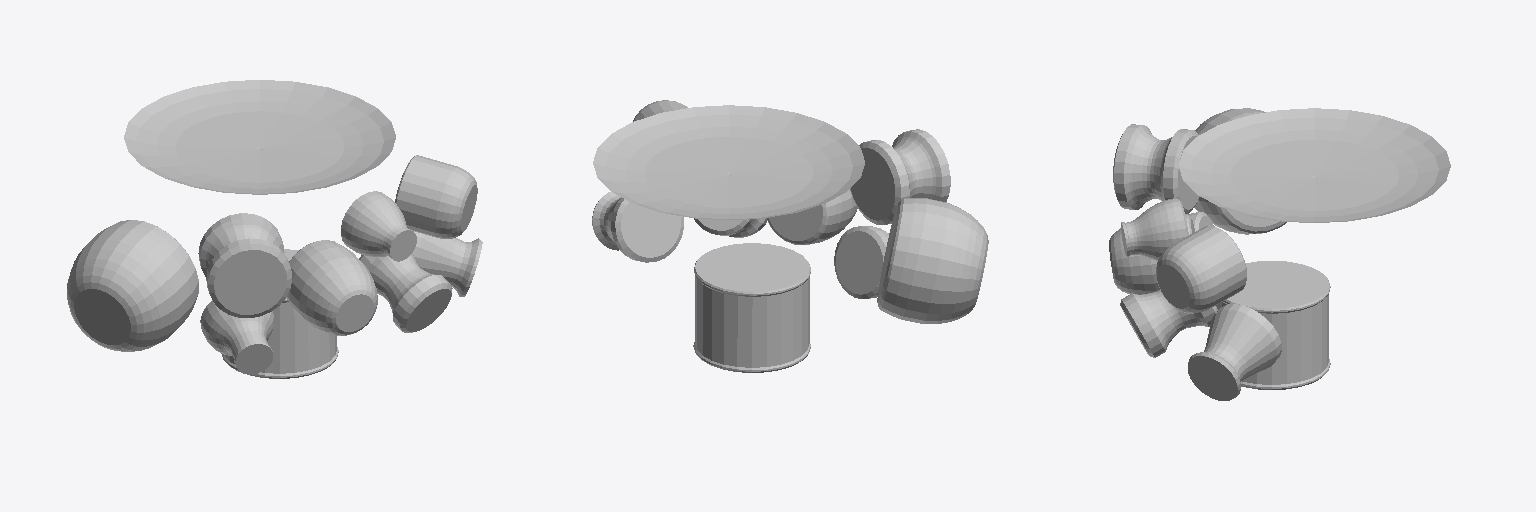
Rendered from drum_set_V1.obj.
The picture shows the model from 3 angles: view 1: azimuth 30°, elevation 25°; view 2: azimuth 150°, elevation 25°; view 3: azimuth 270°, elevation 25°; orthographic projection.
Visible parts, largest first — view 1: D-10_Cylinder.009, D-8_Cylinder.004, D-6_Cylinder.003, D-5_Cylinder.005, D-2_Cylinder.001, D-3_Cylinder.007, D-9_Cylinder.008, D-4_Cylinder.006, D-7_Cylinder.002, D-1_Cylinder; view 2: D-10_Cylinder.009, D-9_Cylinder.008, D-8_Cylinder.004, D-6_Cylinder.003, D-1_Cylinder, D-7_Cylinder.002, D-5_Cylinder.005, D-3_Cylinder.007; view 3: D-10_Cylinder.009, D-9_Cylinder.008, D-2_Cylinder.001, D-1_Cylinder, D-6_Cylinder.003, D-3_Cylinder.007, D-4_Cylinder.006, D-8_Cylinder.004, D-5_Cylinder.005.
Part boxes in pixels (bbox=[...]): D-10_Cylinder.009: bbox=[124, 80, 395, 194]; D-8_Cylinder.004: bbox=[67, 220, 198, 351]; D-6_Cylinder.003: bbox=[198, 213, 291, 317]; D-5_Cylinder.005: bbox=[286, 240, 377, 335]; D-2_Cylinder.001: bbox=[395, 155, 477, 238]; D-3_Cylinder.007: bbox=[359, 253, 452, 332]; D-9_Cylinder.008: bbox=[221, 249, 338, 378]; D-4_Cylinder.006: bbox=[341, 191, 416, 261]; D-7_Cylinder.002: bbox=[200, 300, 273, 374]; D-1_Cylinder: bbox=[413, 231, 482, 296]; D-10_Cylinder.009: bbox=[593, 105, 864, 219]; D-9_Cylinder.008: bbox=[693, 243, 810, 372]; D-8_Cylinder.004: bbox=[877, 198, 988, 323]; D-6_Cylinder.003: bbox=[850, 129, 950, 224]; D-1_Cylinder: bbox=[592, 192, 683, 262]; D-7_Cylinder.002: bbox=[834, 226, 888, 298]; D-5_Cylinder.005: bbox=[766, 189, 857, 244]; D-3_Cylinder.007: bbox=[694, 218, 766, 237]; D-10_Cylinder.009: bbox=[1179, 108, 1450, 222]; D-9_Cylinder.008: bbox=[1216, 261, 1330, 389]; D-2_Cylinder.001: bbox=[1156, 226, 1246, 313]; D-1_Cylinder: bbox=[1188, 304, 1281, 400]; D-6_Cylinder.003: bbox=[1113, 124, 1199, 213]; D-3_Cylinder.007: bbox=[1120, 290, 1217, 357]; D-4_Cylinder.006: bbox=[1121, 198, 1188, 260]; D-8_Cylinder.004: bbox=[1194, 108, 1286, 234]; D-5_Cylinder.005: bbox=[1109, 214, 1194, 294].
Bounding box in the file's own units: 10.02 × 4.85 × 7.47.